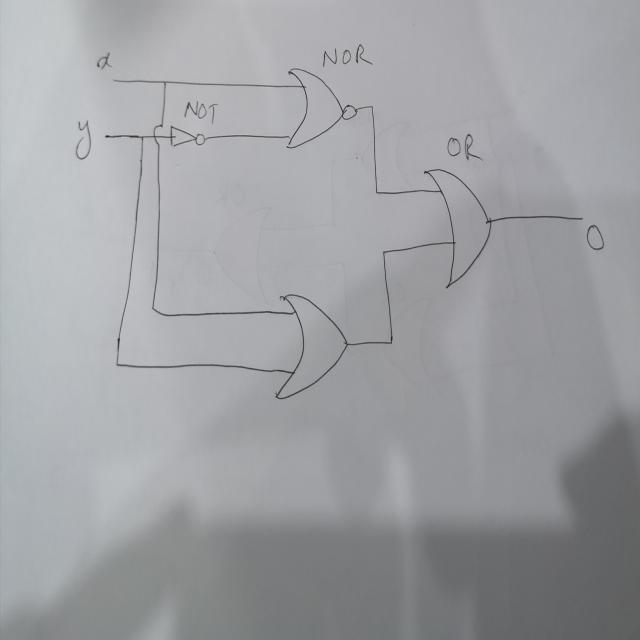crossover: (152, 122, 164, 145)
junction: (386, 330, 396, 349), (372, 185, 381, 199), (379, 245, 388, 259), (149, 300, 156, 315), (137, 131, 145, 144), (368, 99, 375, 112), (113, 358, 121, 369), (161, 76, 168, 88)
terminal: (102, 129, 110, 142), (578, 212, 585, 222), (111, 76, 116, 84)
text: (322, 42, 370, 72), (443, 132, 482, 161), (182, 97, 218, 125), (73, 115, 92, 162), (585, 221, 607, 253), (95, 51, 112, 70)
